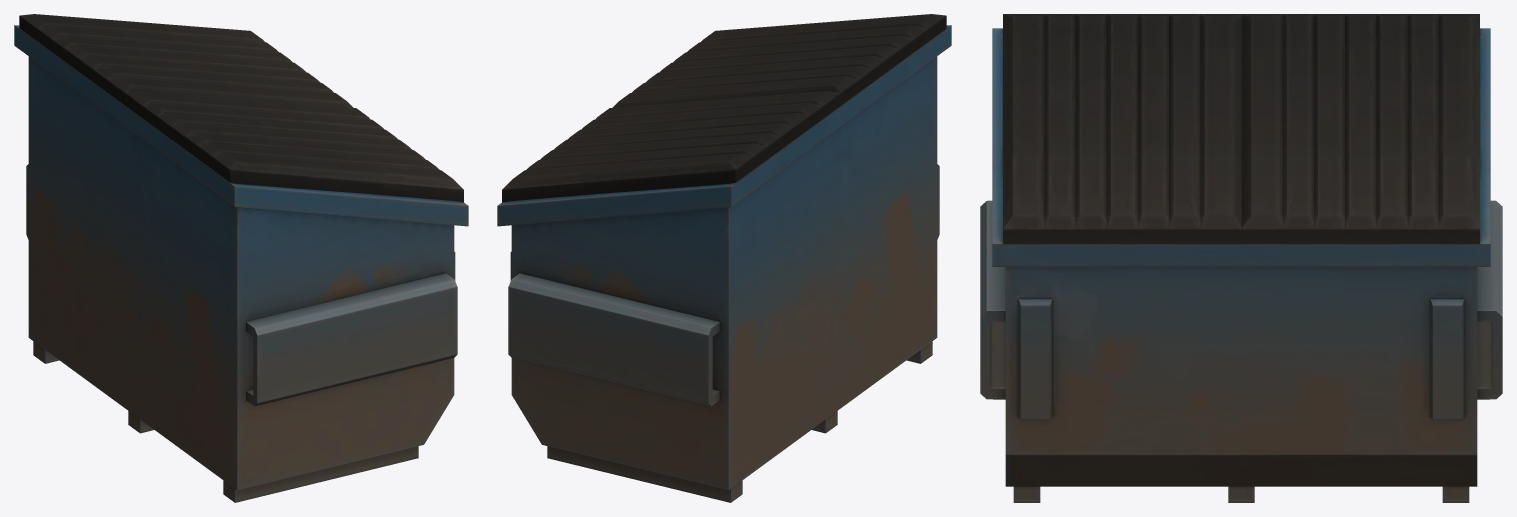
3 renders of one model, left to right at view 1: azimuth 30°, elevation 25°; view 2: azimuth 150°, elevation 25°; view 3: azimuth 270°, elevation 25°, orthographic. The views are drawn at different scales.
Parts seen in each view (by area): view 1: body0_model0_lod0_mesh0; view 2: body0_model0_lod0_mesh0; view 3: body0_model0_lod0_mesh0.
Part boxes in pixels (left/top/right/bottom): body0_model0_lod0_mesh0: left=14, top=14, right=468, bottom=502; body0_model0_lod0_mesh0: left=497, top=14, right=951, bottom=502; body0_model0_lod0_mesh0: left=980, top=14, right=1502, bottom=502.
Size of the model in its own units: 44.94 by 62.51 by 76.86.
1 material, 1 textured.
